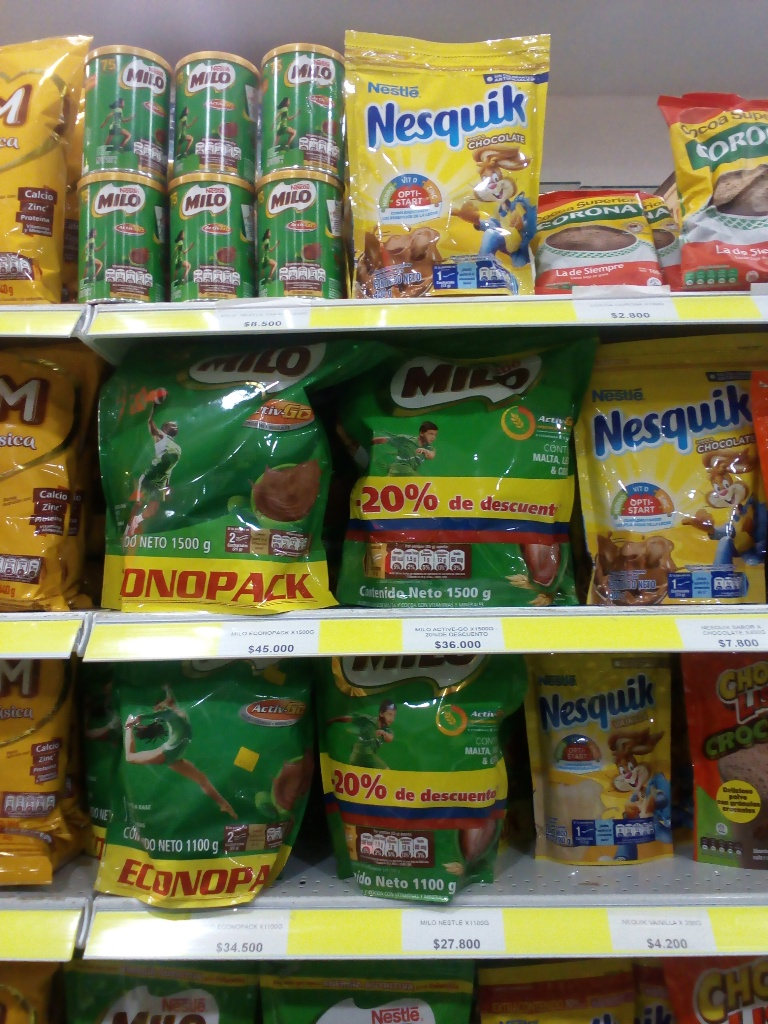COL0170203LAT20000: (78, 41, 170, 178)
COL0170306DYP20000: (523, 652, 683, 876)
